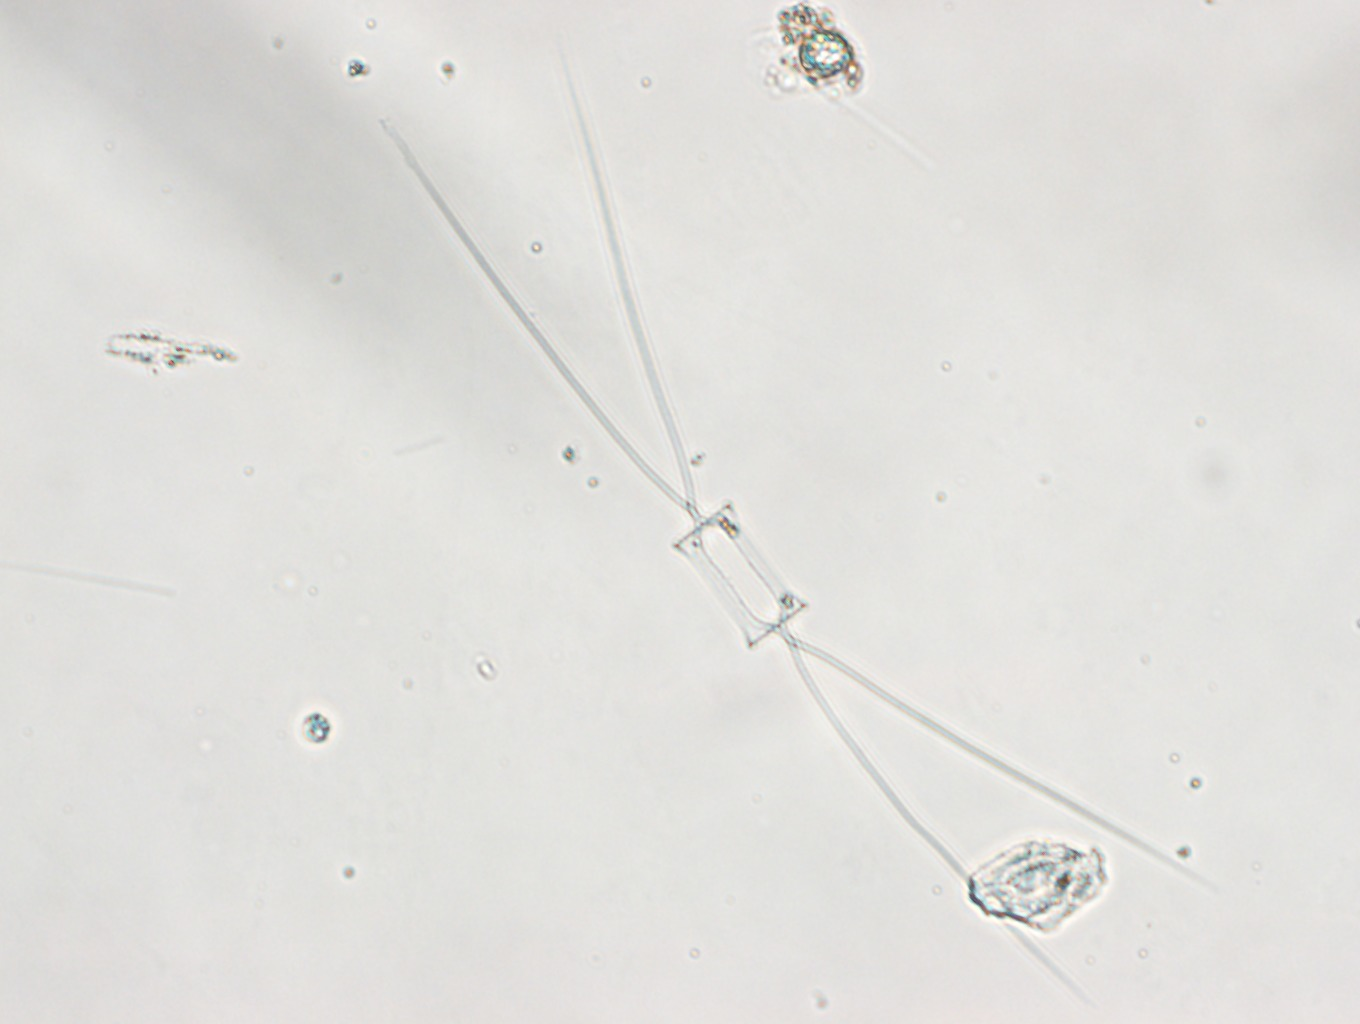chaetoceros: (372, 56, 1204, 1011)
